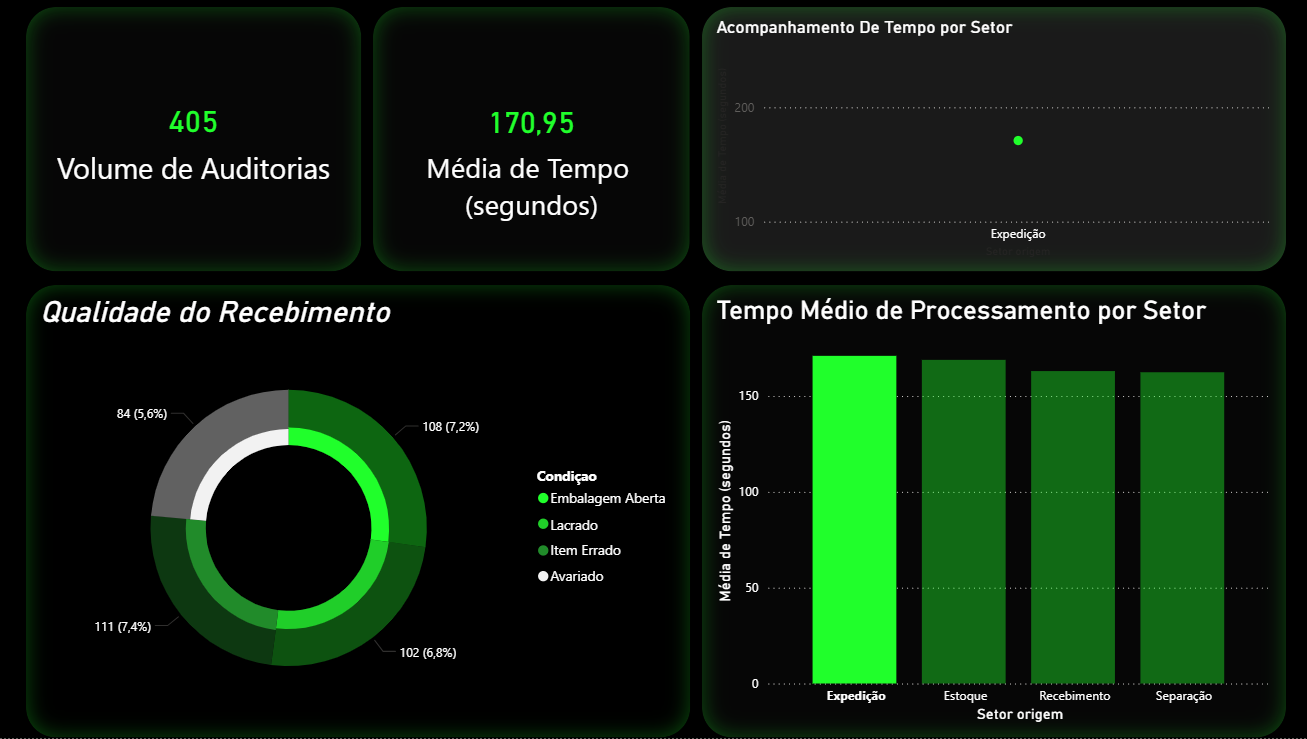

Layout of this report page (visuals, bound fields, positions):
{"tool":"powerbi","page":{"name":"Página 1","canvas":[1280,720],"ordinal":0},"visuals":[{"type":"clusteredColumnChart","title":"Tempo Médio de Processamento por Setor","fields":{"Category":["base_completa_cajamar csv.Setor origem"],"Y":["Avg(base_completa_cajamar csv.Tempo (segundos))"]},"box":[686.7,278.2,570,441.6],"z":0},{"type":"card","fields":{"Values":["CountNonNull(base_completa_cajamar csv.ID)"]},"box":[29.2,7.8,327.8,258.7],"z":1000},{"type":"donutChart","title":"Qualidade do Recebimento","fields":{"Category":["base_completa_cajamar csv.Condiçao"],"Y":["CountNonNull(base_completa_cajamar csv.ID)"]},"box":[29.2,278.2,647.8,441.6],"z":2000},{"type":"card","fields":{"Values":["Avg(base_completa_cajamar csv.Tempo (segundos))"]},"box":[366.7,7.8,310.3,258.7],"z":3000},{"type":"areaChart","title":"Acompanhamento De Tempo por Setor","fields":{"Category":["base_completa_cajamar csv.Setor origem"],"Y":["Avg(base_completa_cajamar csv.Tempo (segundos))"]},"box":[686.7,7.8,570,258.7],"z":4000}]}

Visuals, with their boxes in screenshot pixels (x1, y1, x2, y2), scaled from the page's 1280x720 canvas onto the 1307x739 screenshot:
"Tempo Médio de Processamento por Setor" clusteredColumnChart: Rect(701, 286, 1283, 738)
card - CountNonNull(base_completa_cajamar csv.ID): Rect(30, 8, 365, 274)
"Qualidade do Recebimento" donutChart: Rect(30, 286, 691, 738)
card - Avg(base_completa_cajamar csv.Tempo (segundos)): Rect(374, 8, 691, 274)
"Acompanhamento De Tempo por Setor" areaChart: Rect(701, 8, 1283, 274)
